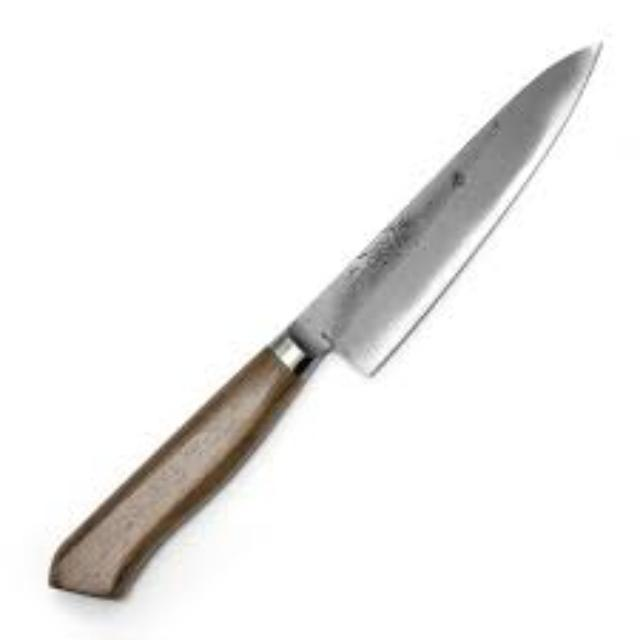Knife: (45, 37, 602, 597)
